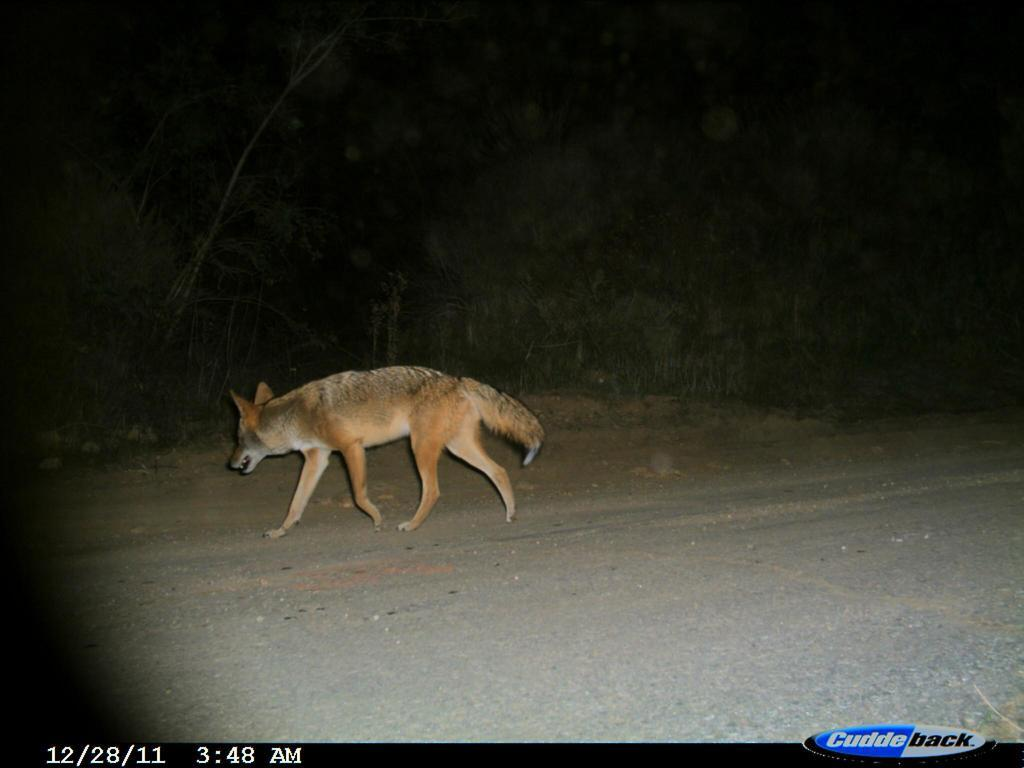coyote: (207, 365, 546, 529)
